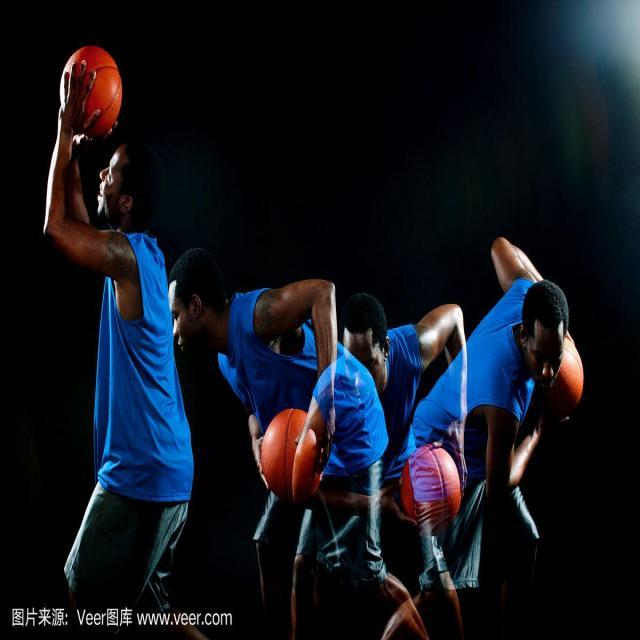rim: (258, 406, 320, 496), (59, 49, 122, 137), (399, 450, 462, 532), (548, 330, 584, 416)
